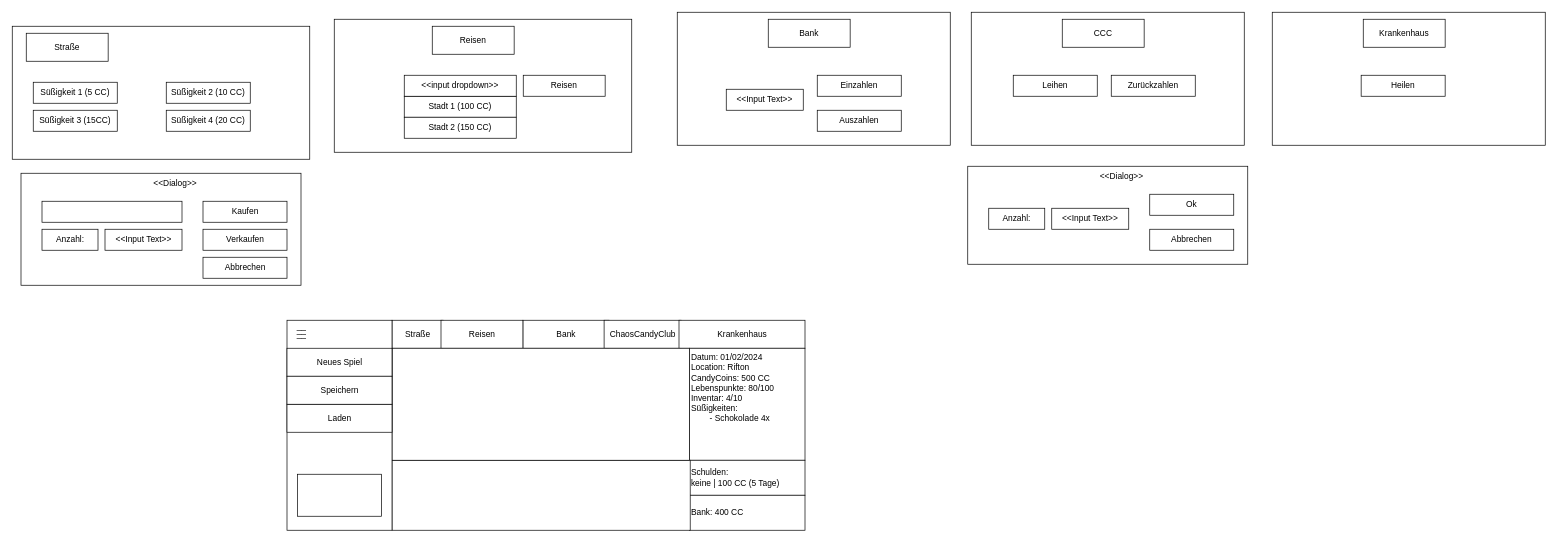
The diagram is 1558 pixels wide and 543 high, and some of its shapes have lost their labels. Each missing label, with the centre of its shape:
"<<Ereignisse>>" belongs at [540,495].
"CANDYLORD" belongs at [339,495].
"Süßigkeit X (Y CC)" belongs at [111,211].
"User Eingabe" belongs at [540,404].
